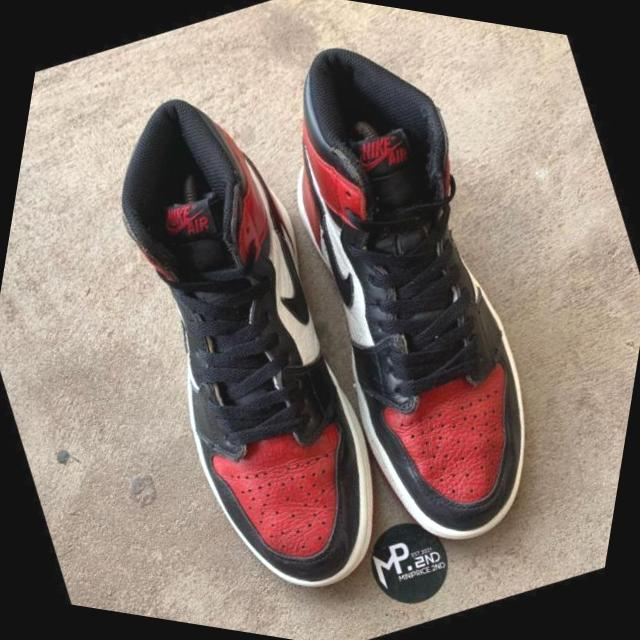nike_original_jordan: (181, 0, 640, 590), (20, 52, 479, 640)
